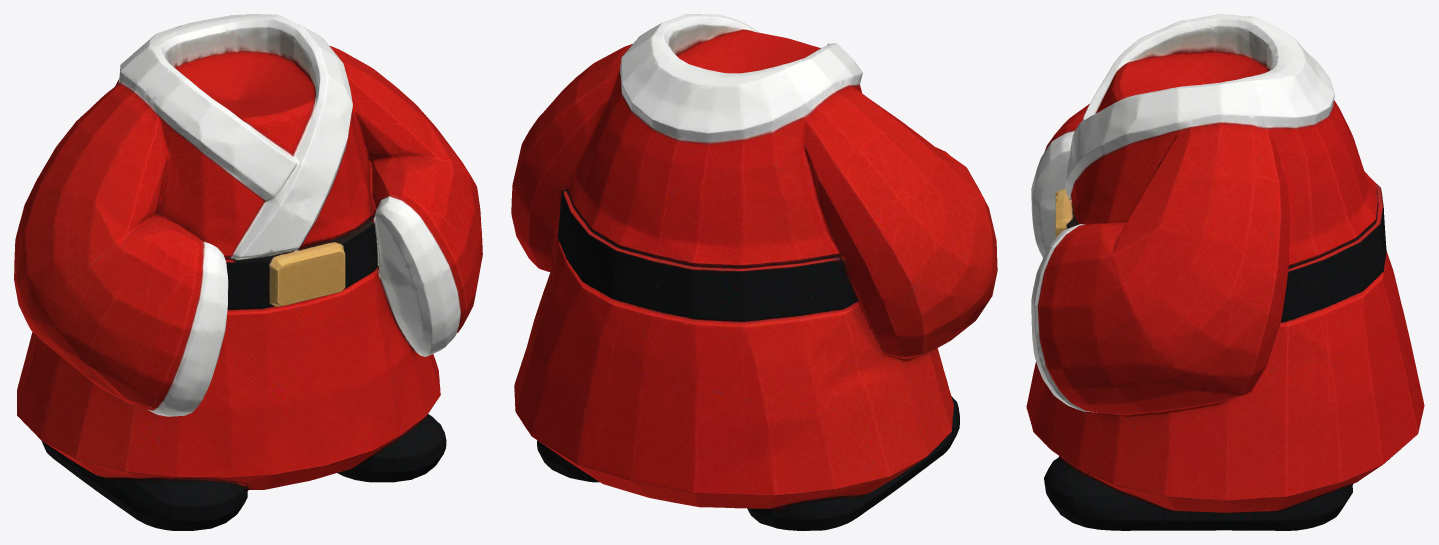
File: Body.glb
3 renders of one model, left to right at view 1: azimuth 30°, elevation 25°; view 2: azimuth 150°, elevation 25°; view 3: azimuth 270°, elevation 25°, orthographic. The views are drawn at different scales.
Bounding box in the file's own units: 1.89 × 1.71 × 1.48.
1 material, 1 textured.
